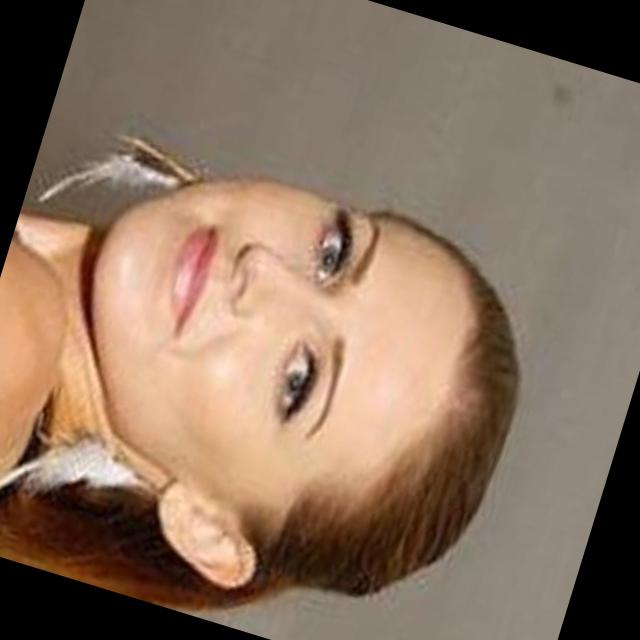bareface: (51, 134, 544, 636)
